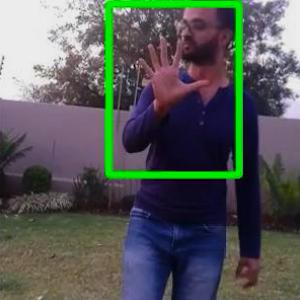follow_hand: (135, 30, 212, 110)
